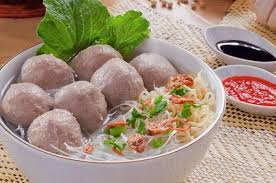bakso: (8, 37, 185, 158)
